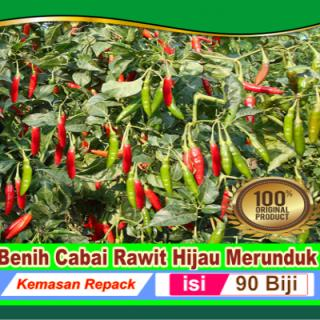Cabai Hijau: (235, 102, 320, 161)
